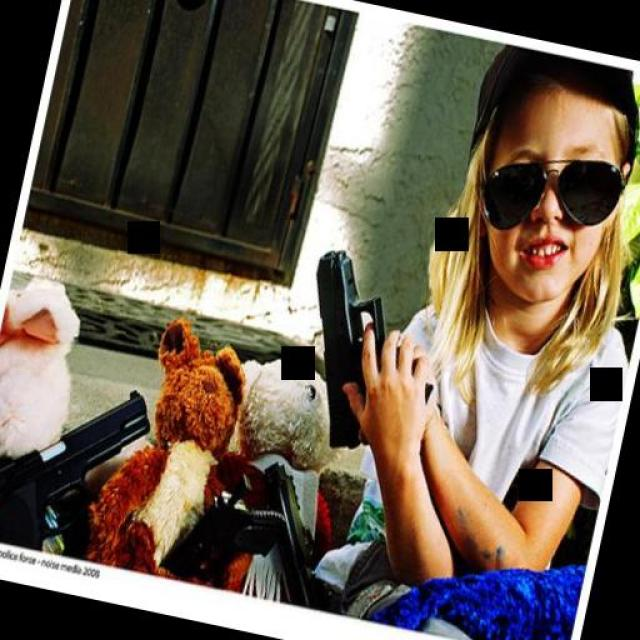gun: (278, 241, 458, 465)
